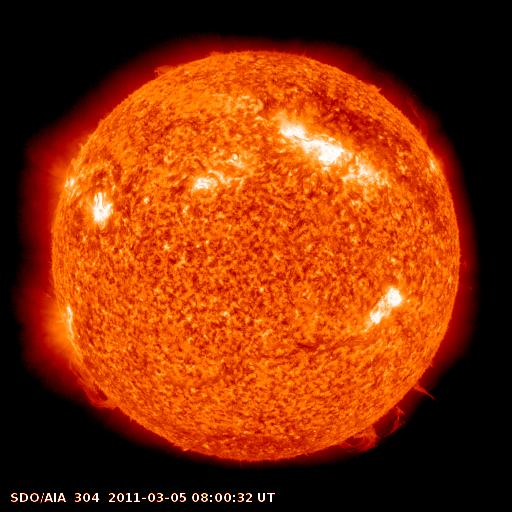prominence: (324, 375, 455, 456), (349, 63, 436, 142), (64, 353, 125, 419), (139, 49, 192, 92)
